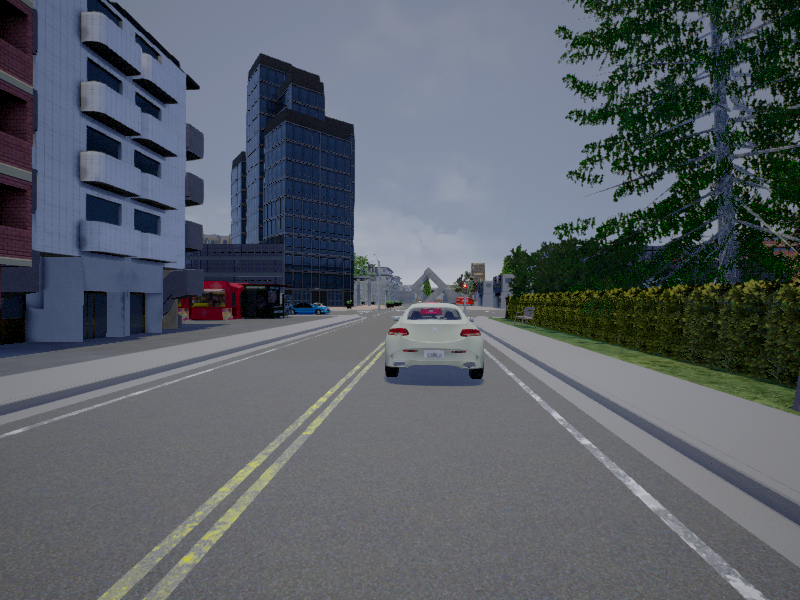Benign: (387, 304, 485, 380), (291, 300, 331, 315)
